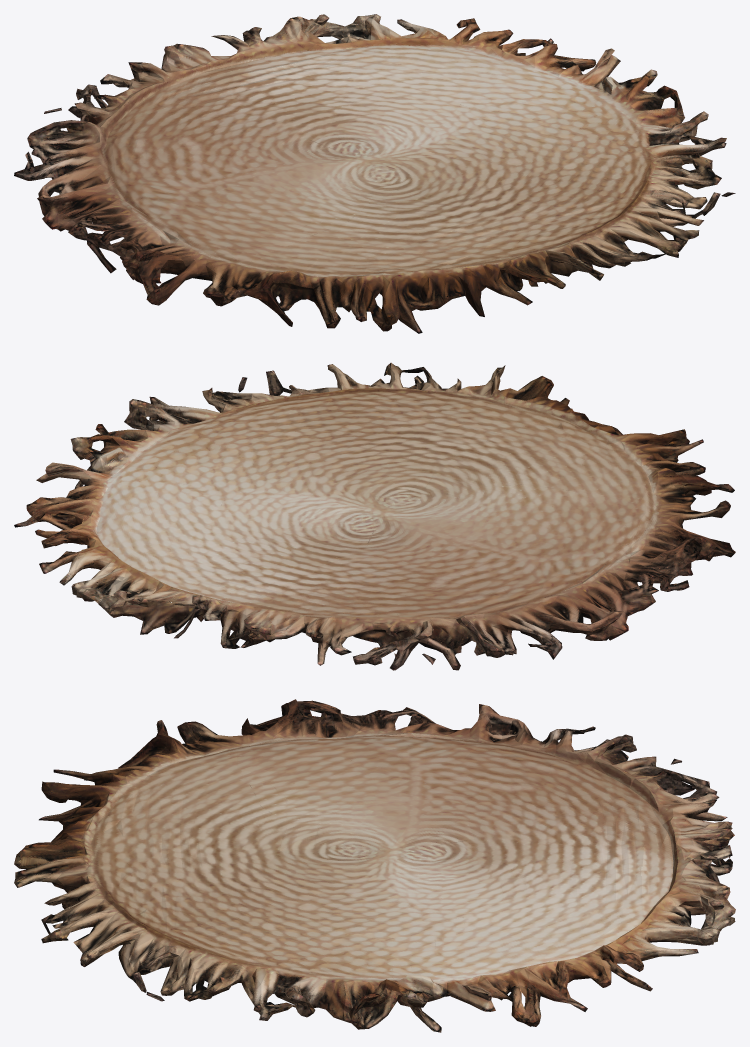
Rendered from woven-grass-playmat-vintage.jpeg.glb.
The picture shows the model from 3 angles, top to bottom: view 1: azimuth 30°, elevation 25°; view 2: azimuth 150°, elevation 25°; view 3: azimuth 270°, elevation 25°; orthographic projection. The views are drawn at different scales.
Visible parts, largest first — view 1: world; view 2: world; view 3: world.
Part boxes in pixels (x1,y1,x2,y2): world: [14, 14, 735, 333]; world: [14, 362, 735, 670]; world: [14, 699, 735, 1032].
Bounding box in the file's own units: 0.9991 × 0.0742 × 0.9978.
Materials: 1 (1 with a texture image).
